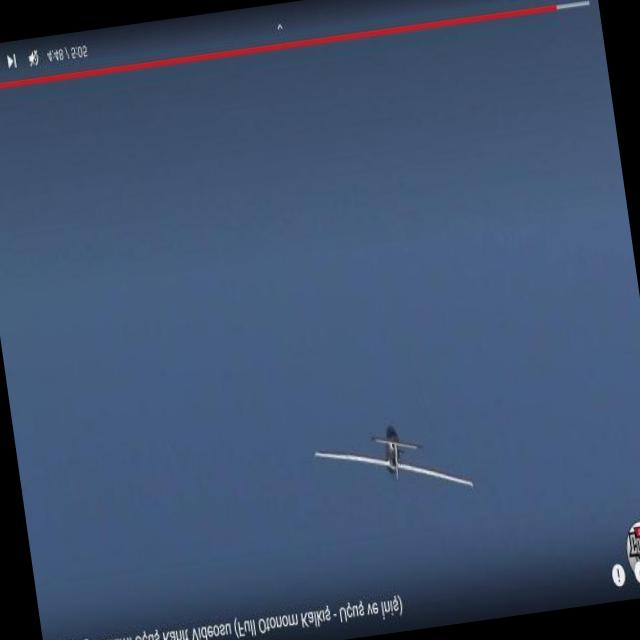UAV: (292, 383, 530, 495)
